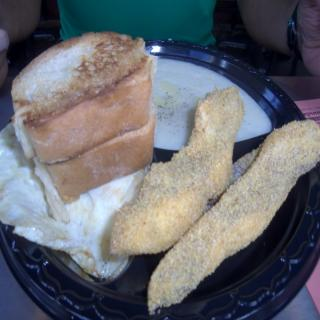Bread: (12, 32, 150, 159), (36, 109, 156, 223)
